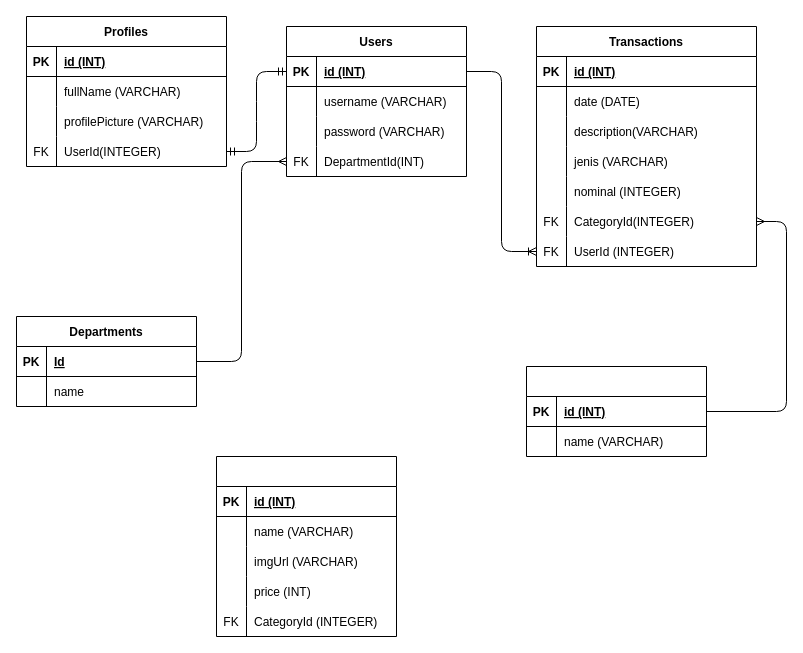
Image size: 803x653. Some labels were removed from this diagram. Each missing label, with the box of its shape:
Categories: (526, 366, 706, 456)
Products: (216, 456, 396, 636)
